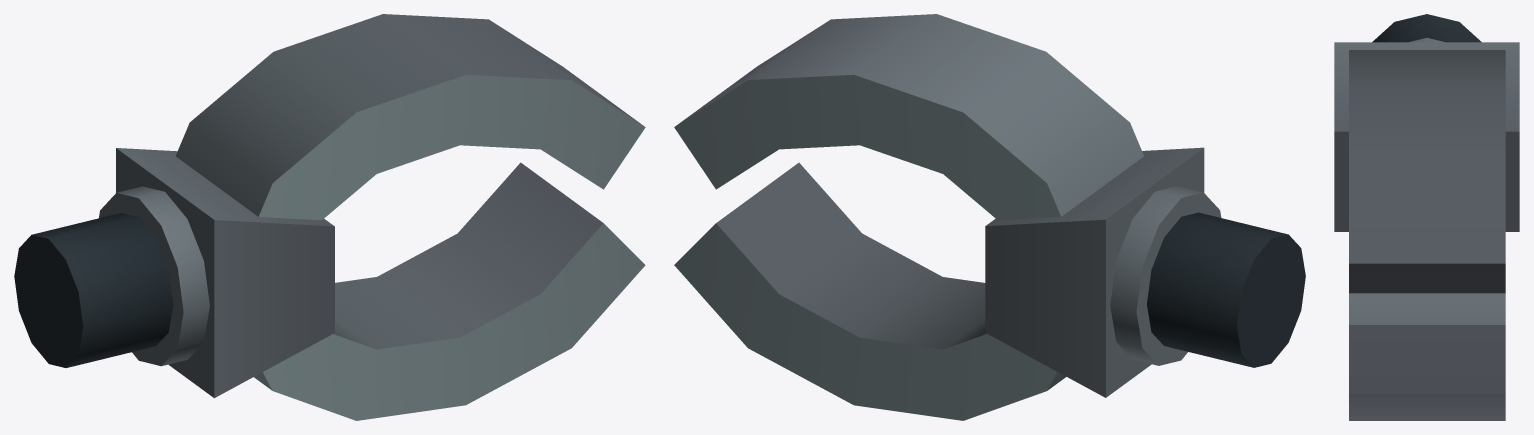
File: robot_hand.fbx
3 views of the same model, side by side, from view 1: azimuth 30°, elevation 25°; view 2: azimuth 150°, elevation 25°; view 3: azimuth 270°, elevation 25° (orthographic). The views are drawn at different scales.
Visible parts, largest first — view 1: Cylinder.011; view 2: Cylinder.011; view 3: Cylinder.011.
Part boxes in pixels (x1,y1,x2,y2): Cylinder.011: [14, 14, 645, 420]; Cylinder.011: [674, 14, 1305, 420]; Cylinder.011: [1334, 14, 1519, 420].
Size of the model in its own units: 10.72 by 6.09 by 3.29.
